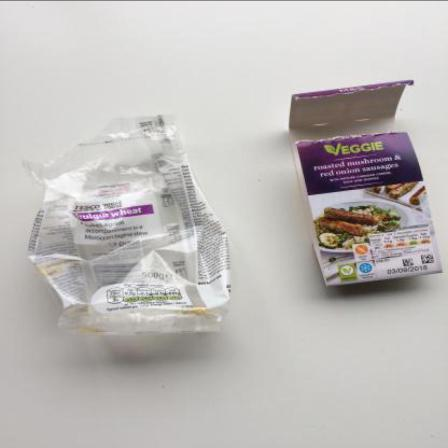Carton: (290, 80, 444, 286)
Plastic bag - wrapper: (23, 115, 232, 338)
